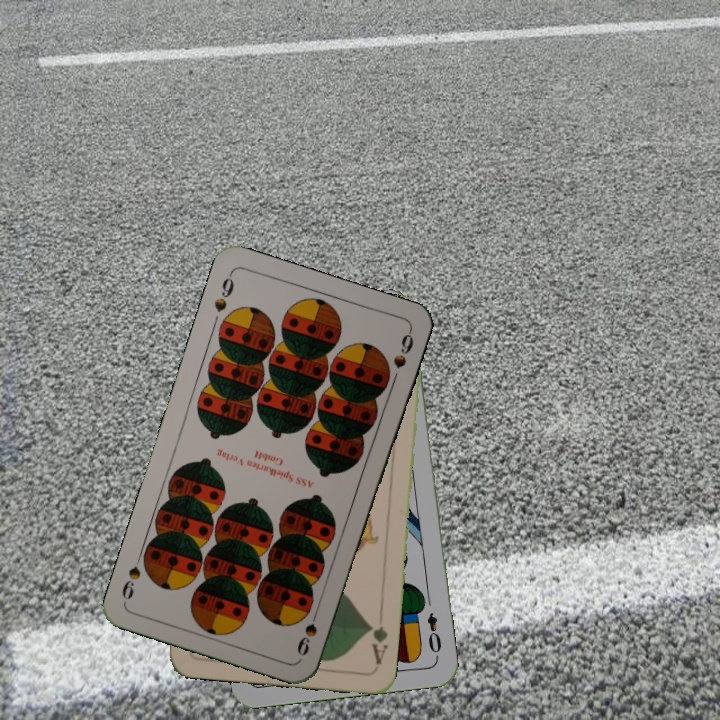EO: (423, 609, 444, 656)
GA: (364, 621, 391, 667)
S9: (293, 602, 322, 659), (210, 269, 237, 315)
